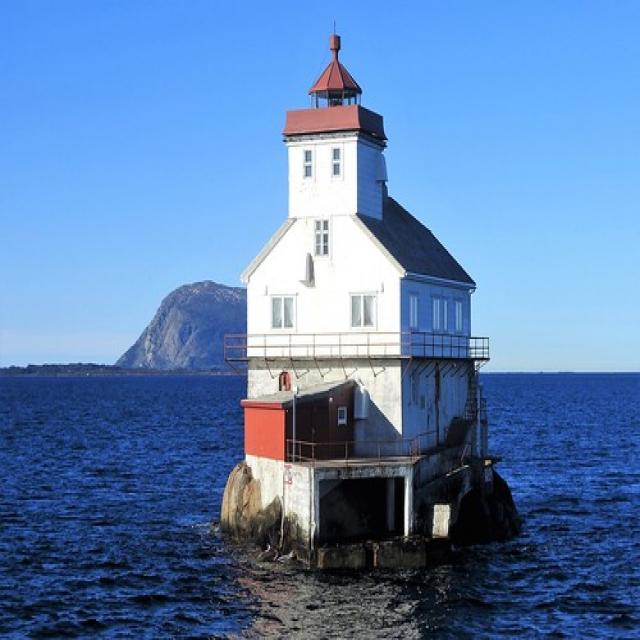Normal_building: (230, 51, 480, 572)
